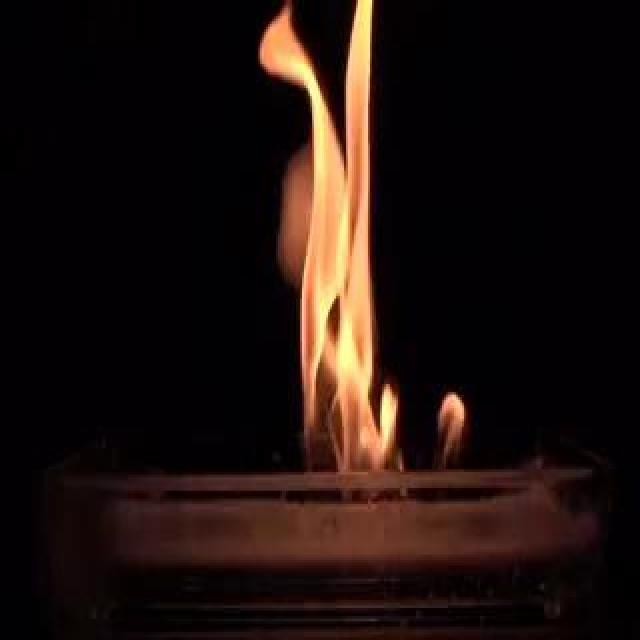Fire: (381, 401, 517, 516)
